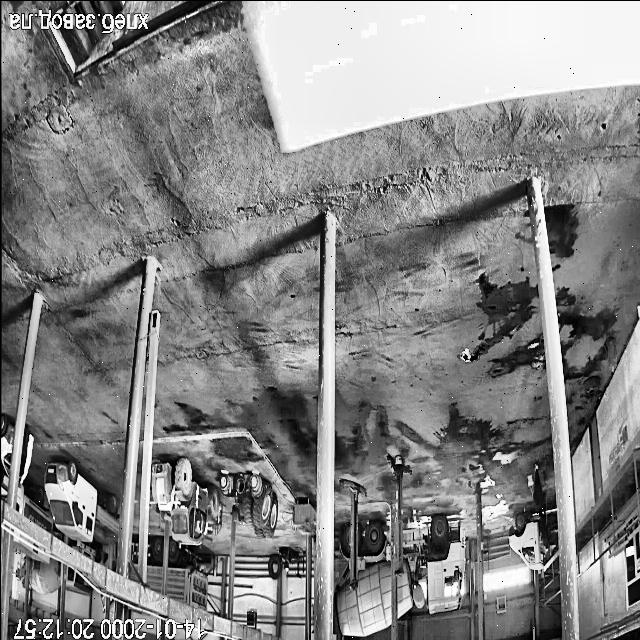class4: (20, 424, 32, 484), (532, 464, 544, 514), (539, 509, 549, 552)
class6: (151, 459, 221, 544), (220, 475, 277, 537)
class7: (396, 516, 464, 618), (334, 522, 392, 636), (44, 460, 119, 541), (167, 540, 207, 611), (508, 514, 556, 570), (19, 486, 52, 532), (29, 557, 60, 594), (146, 538, 163, 592), (13, 539, 48, 562), (66, 566, 91, 595), (74, 541, 106, 563), (132, 543, 140, 563), (18, 564, 24, 587), (130, 572, 136, 579), (134, 566, 135, 566)
truck: (388, 455, 411, 574), (340, 479, 365, 588)
